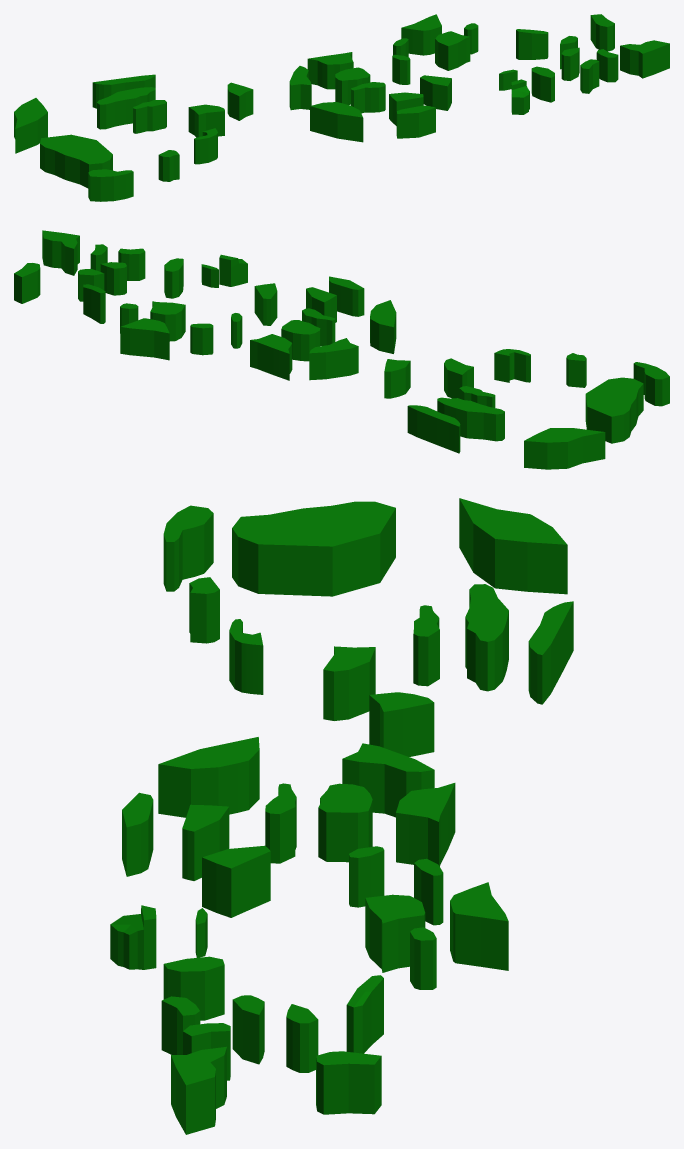
File: Terreno_2_Paredes.fbx
3 views of the same model, one above another, from view 1: azimuth 30°, elevation 25°; view 2: azimuth 150°, elevation 25°; view 3: azimuth 270°, elevation 25° (orthographic). The views are drawn at different scales.
Parts seen in each view (by area): view 1: pCube292; view 2: pCube292; view 3: pCube292.
Boxes of the visible parts, x1,y1,x2,y2 form: pCube292: (14,14,669,201); pCube292: (14,230,669,469); pCube292: (110,498,573,1134).
Size of the model in its own units: 188 by 9.9 by 64.33.
